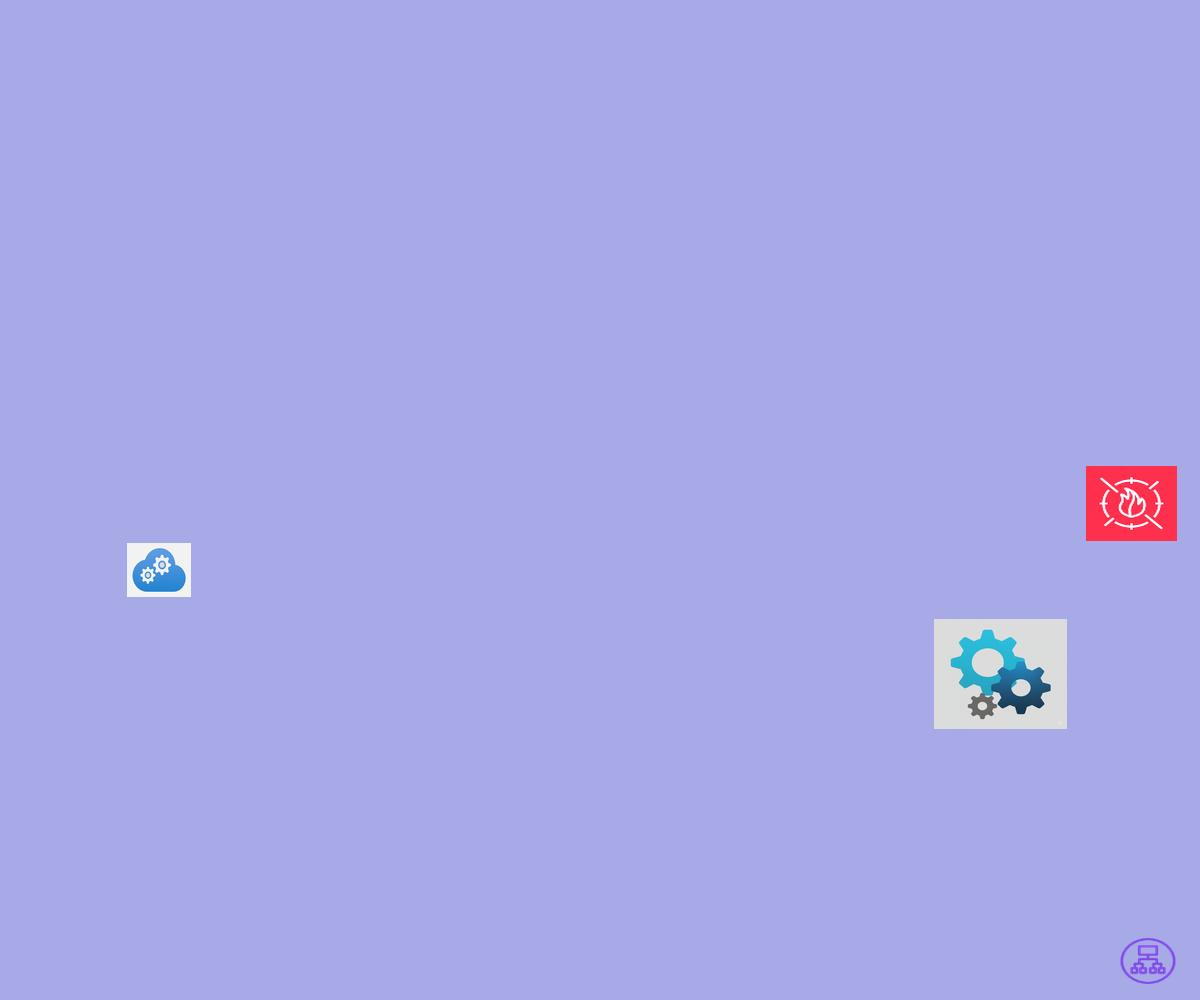AWS-Res_Elastic-Load-Balancing_Application-Load-Balancer: (1118, 936, 1178, 986)
AWS-WAF: (1086, 466, 1177, 541)
Azure_api: (934, 619, 1067, 729)
Azure_cloud_services: (127, 543, 191, 597)
